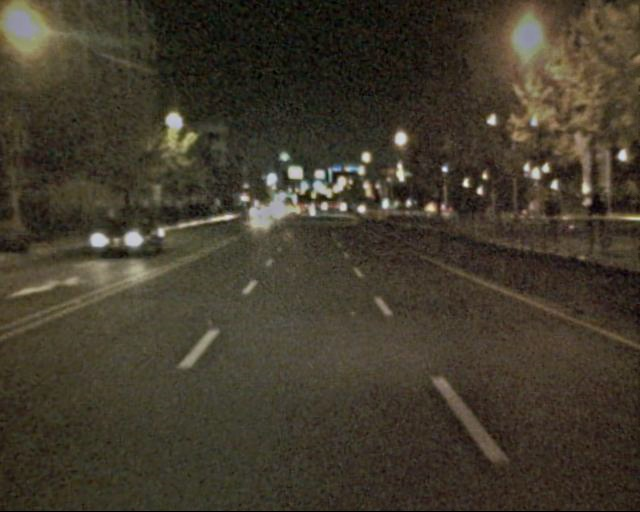person: (578, 188, 610, 262), (539, 187, 568, 252), (457, 194, 476, 224)
